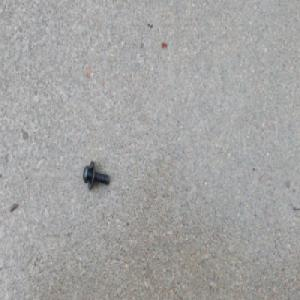BoltWasher: (82, 160, 109, 191)
